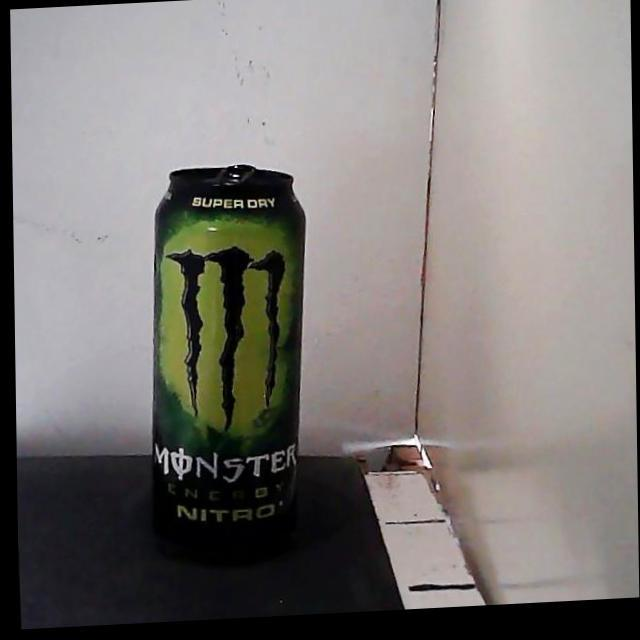metal: (152, 165, 305, 555)
